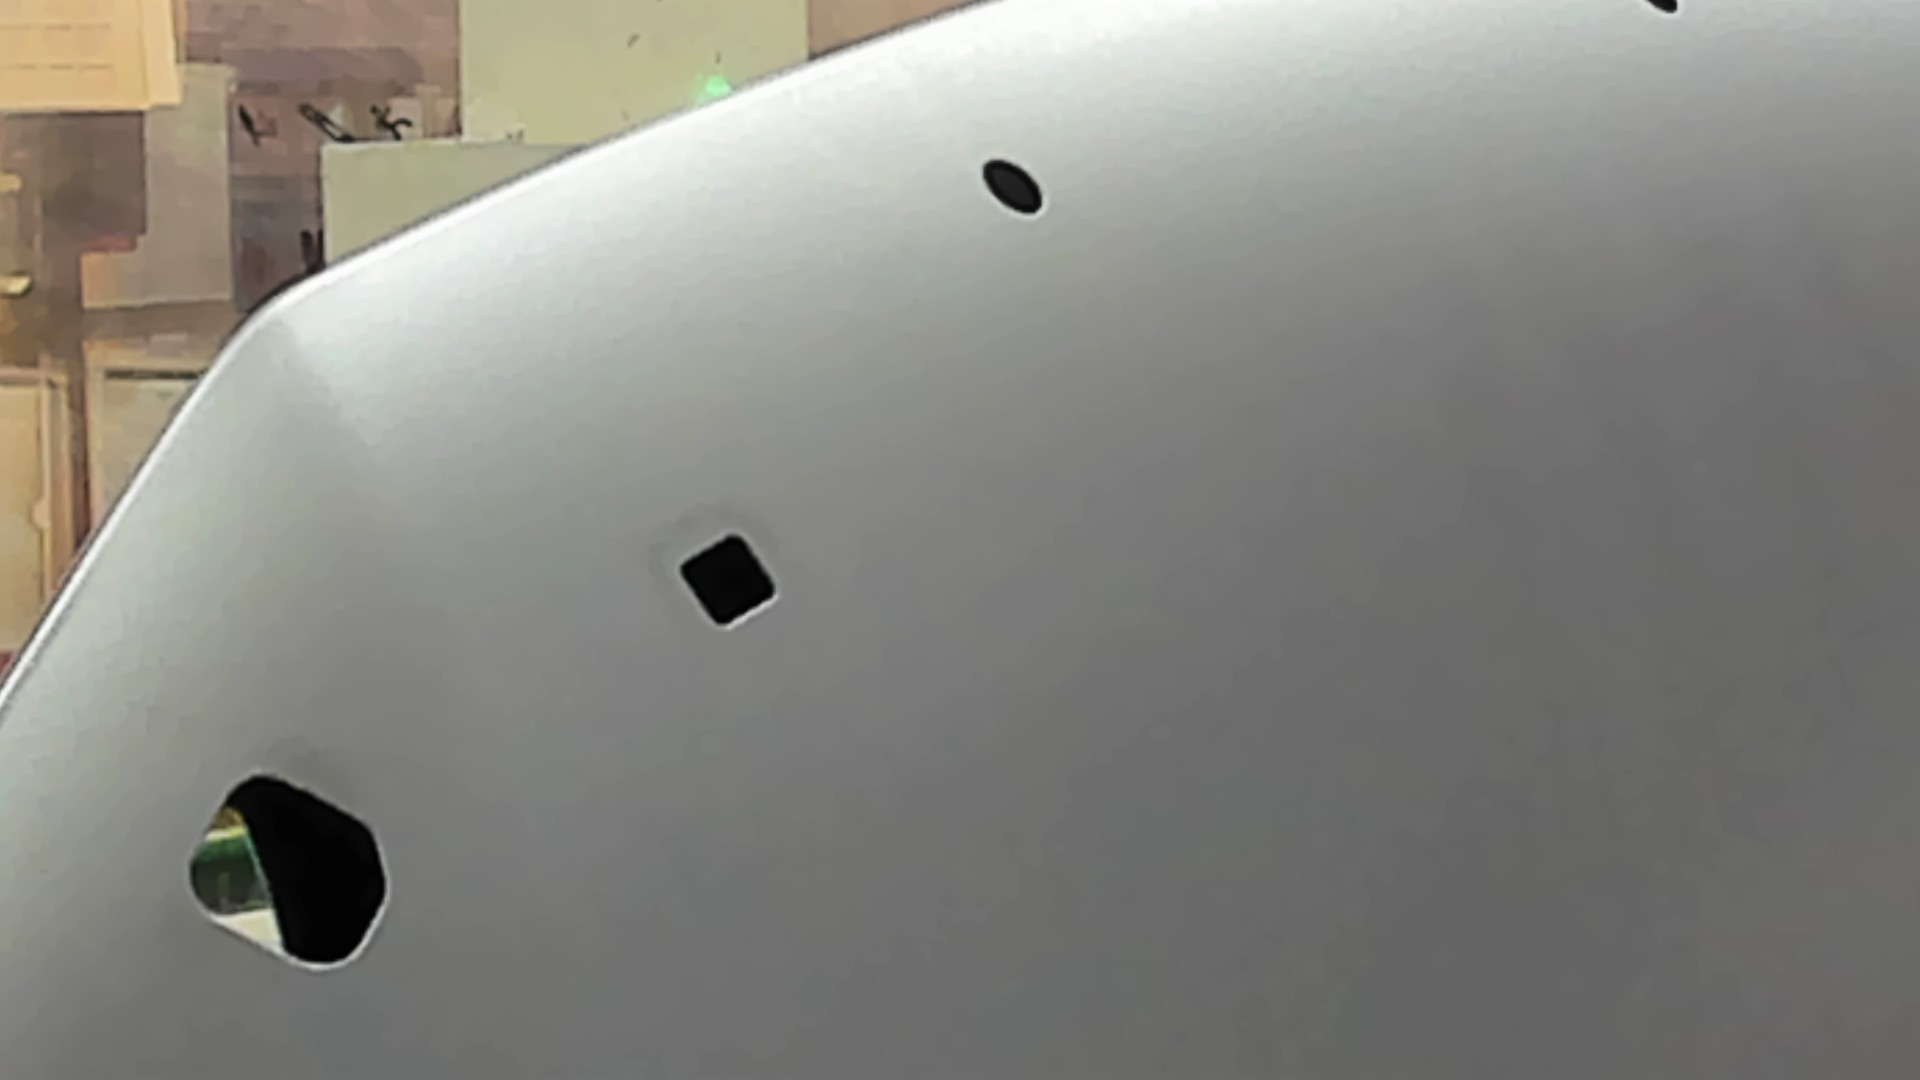chico: (975, 138, 1060, 229)
grande: (169, 758, 413, 985)
mediano: (657, 520, 793, 644)
